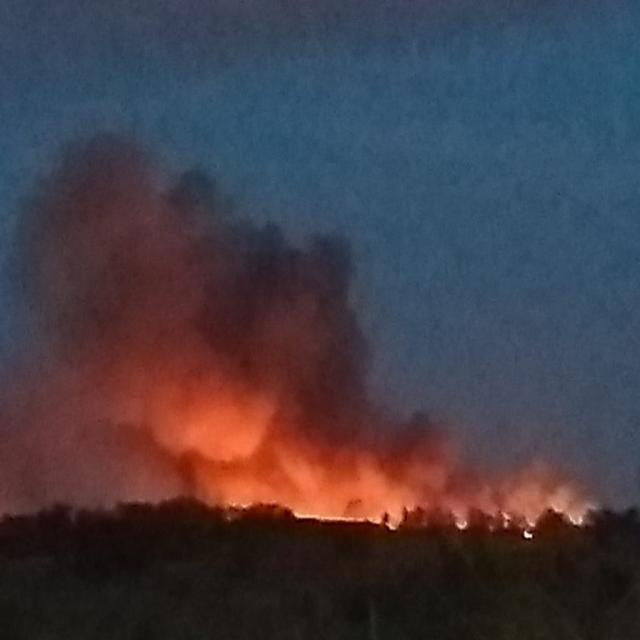Fire: (288, 508, 398, 532), (548, 499, 590, 527), (228, 494, 254, 512), (522, 518, 538, 541), (499, 510, 511, 530), (456, 518, 470, 531)
Smoke: (9, 117, 614, 531), (24, 132, 272, 452), (170, 167, 430, 467), (6, 408, 180, 514), (314, 452, 414, 506), (498, 452, 592, 502), (270, 433, 328, 512), (186, 462, 276, 503)
